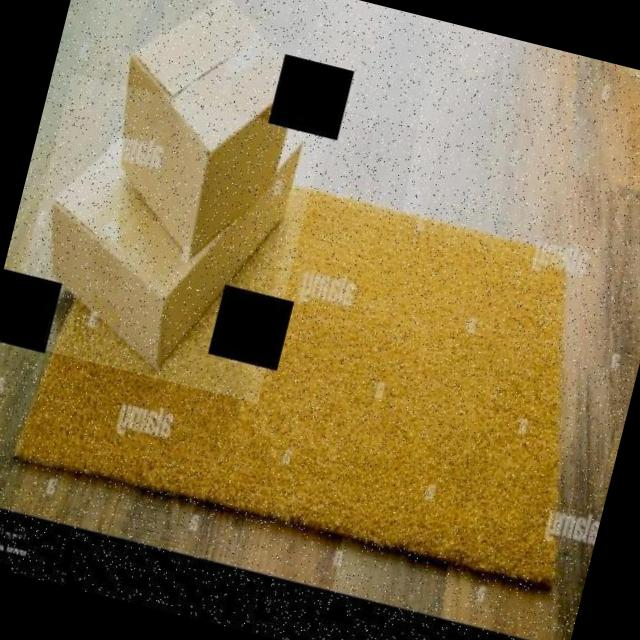box: (5, 72, 324, 404), (82, 0, 321, 279)
